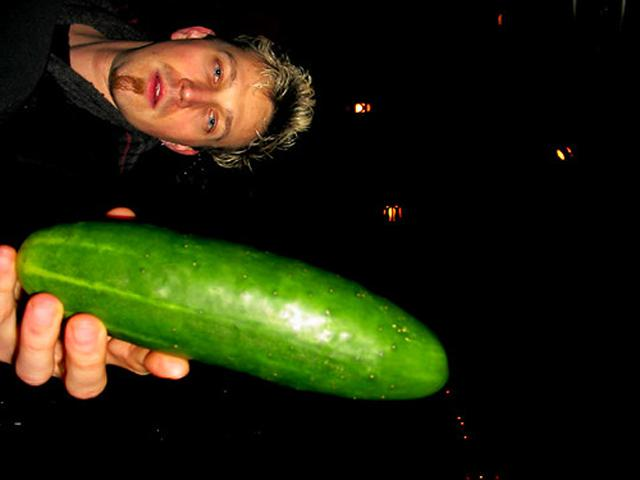cucumber: (19, 224, 445, 401)
